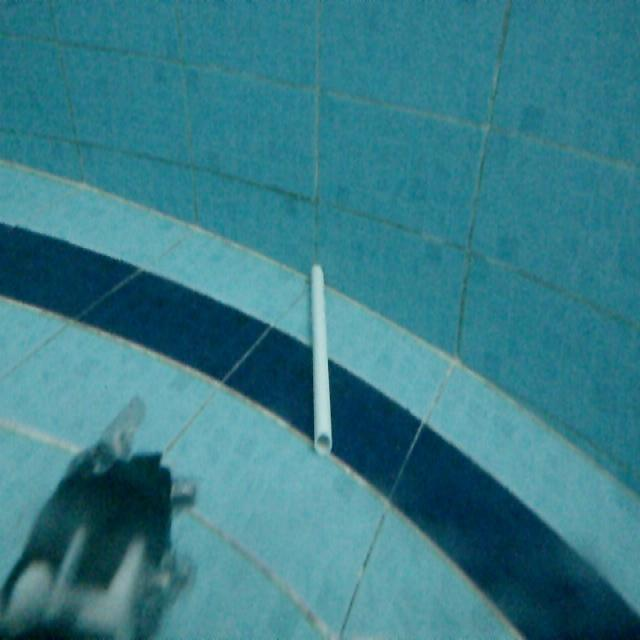Cube: (305, 257, 336, 456)
